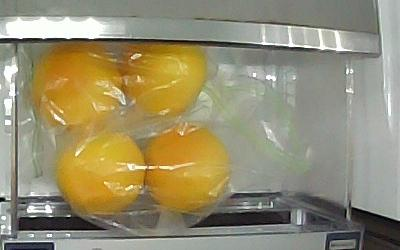grapefruit_vinyl: (28, 44, 123, 136), (55, 131, 146, 219), (143, 125, 231, 212), (120, 44, 206, 115)
